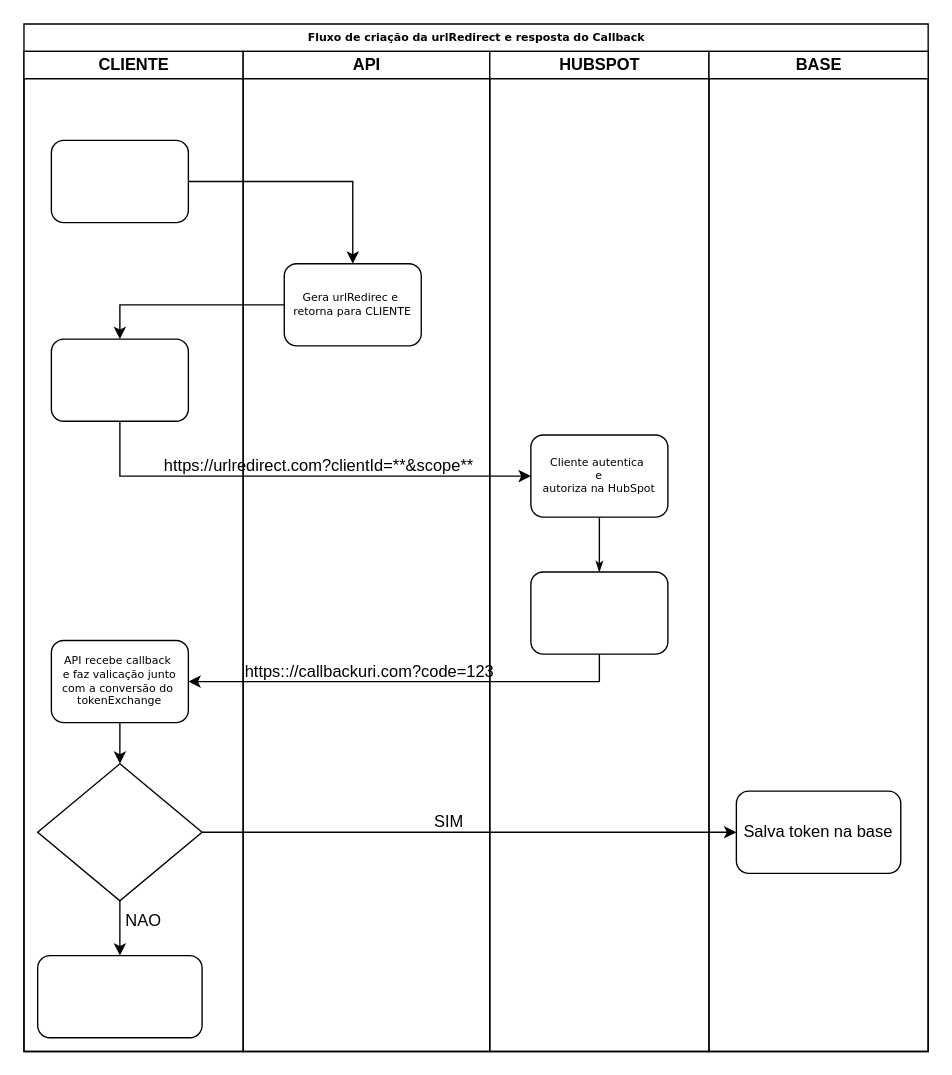
Some shapes in this 952 by 1075 pixel diagram are drawn without their labels. The centre of each missing label's shape, as x and y in pixels:
"Chama endpoint /oauth/authorize-url" belongs at (x=119, y=181).
"Cliente recebe urlredirect para acessar HubSpot" belongs at (x=119, y=379).
"Gera exceção e interrompe o fluxo" belongs at (x=119, y=996).
"HubSpot retorna a url de callback para API" belongs at (x=599, y=612).
"validação e conversão ok?" belongs at (x=119, y=831).
